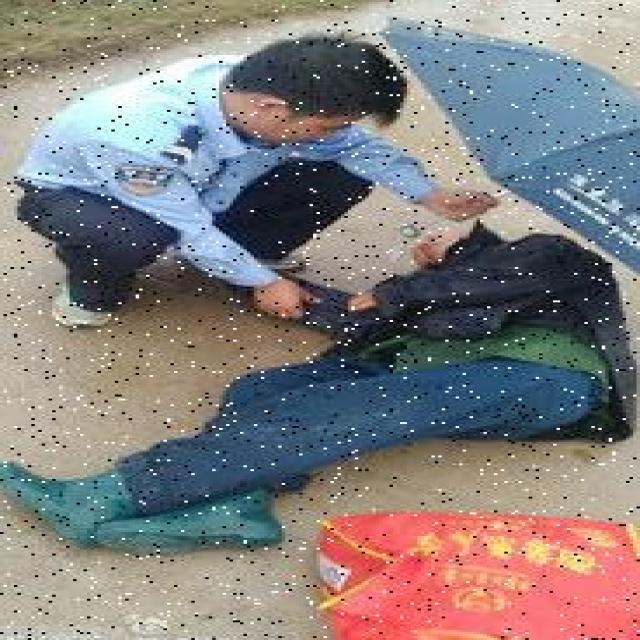fall: (11, 222, 636, 548)
